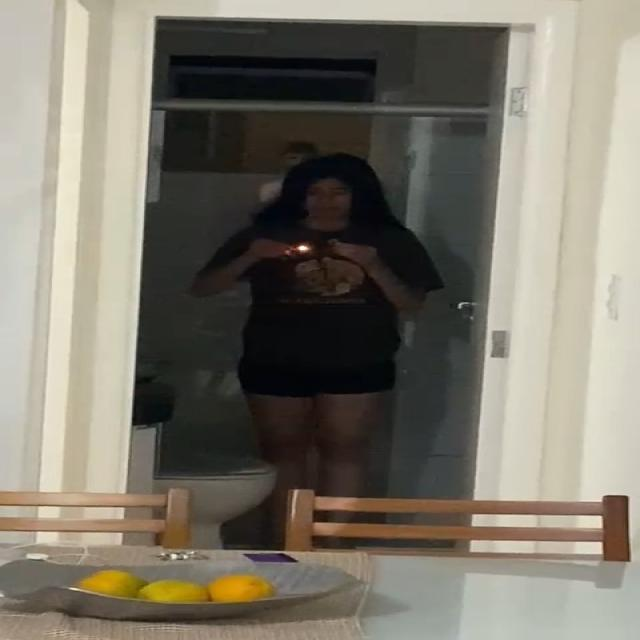fire: (297, 242, 311, 253)
